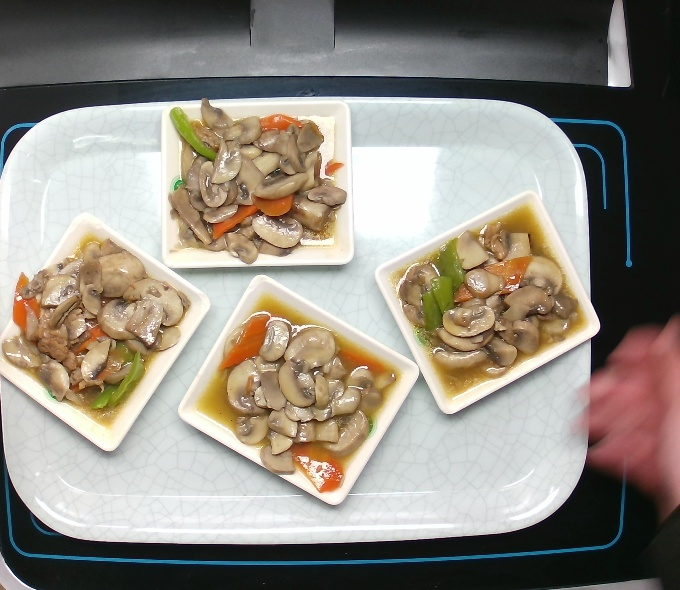wcq-HouTouGuChaoRou: (196, 290, 403, 493), (388, 206, 595, 401), (1, 225, 191, 431), (166, 92, 352, 269)
